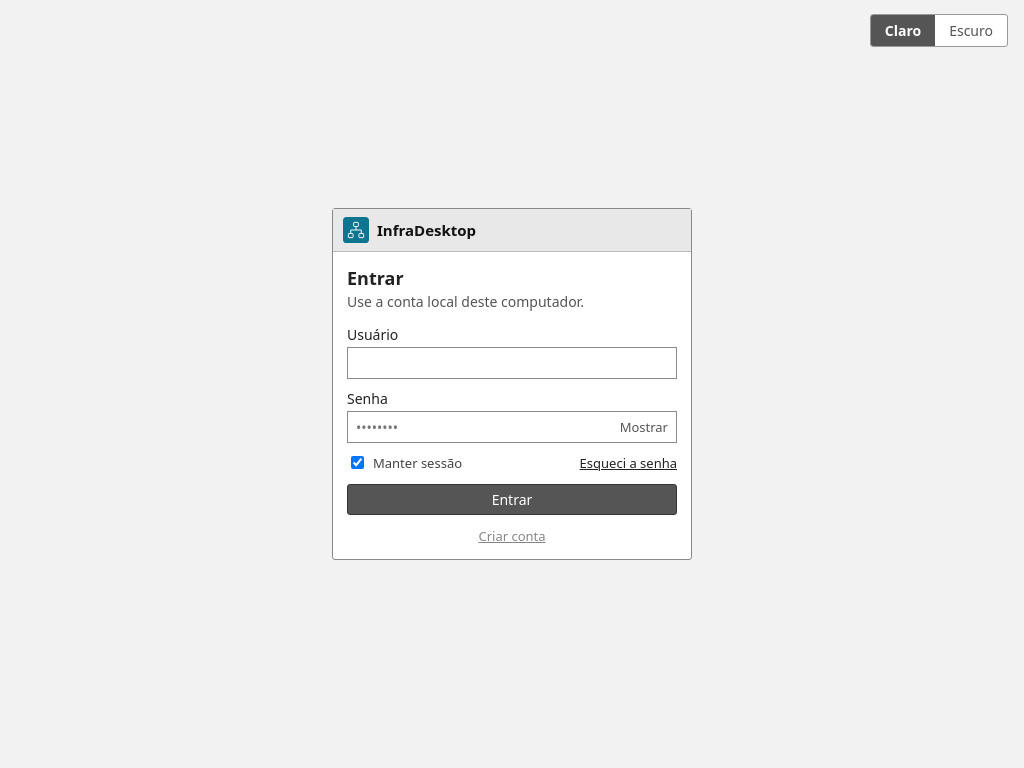
Test case: opens companies after explicit login with a remembered company
The width and height of the screenshot is (1024, 768).
Type "user" into the field labelled "Usuário" at (512, 363), box x1=347 y1=347 x2=677 y2=379
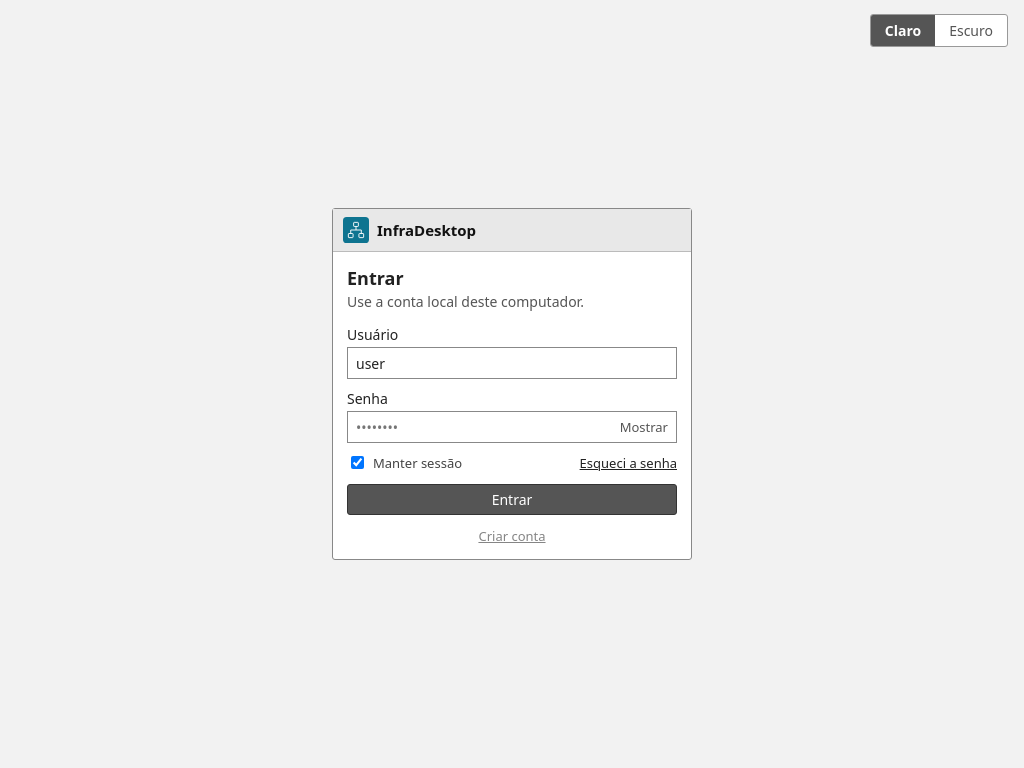
Type "password" into the password field labelled "Senha" at (512, 427), box x1=347 y1=411 x2=677 y2=443
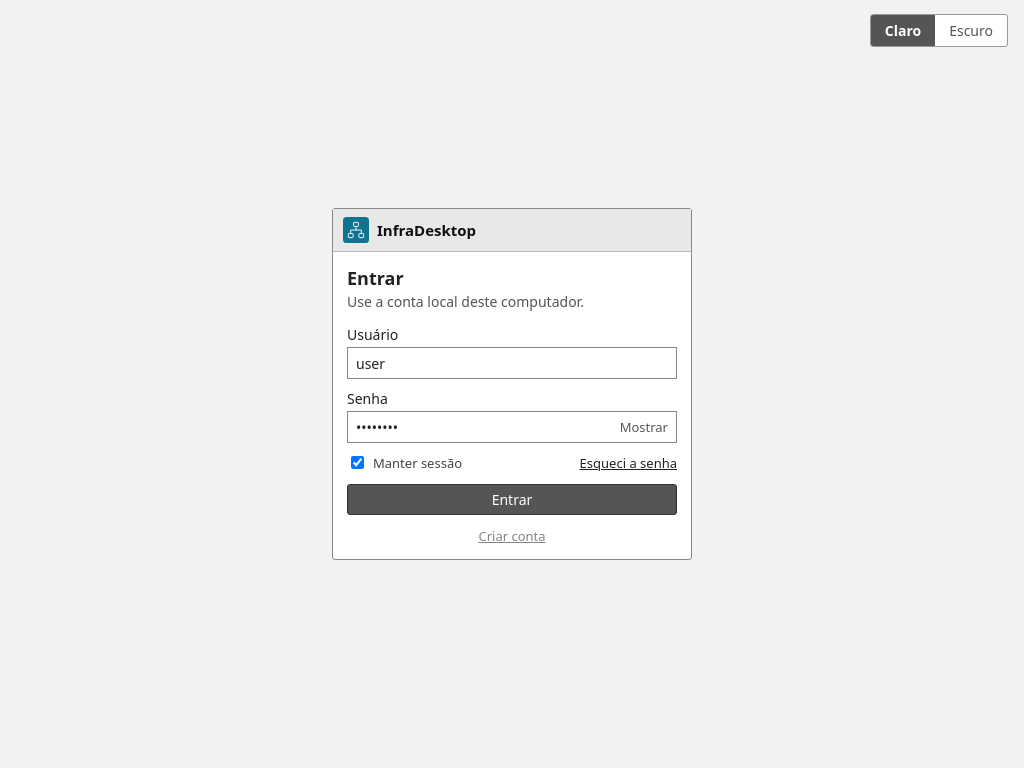
Click the button "Entrar" at (512, 500), box x1=347 y1=484 x2=677 y2=515
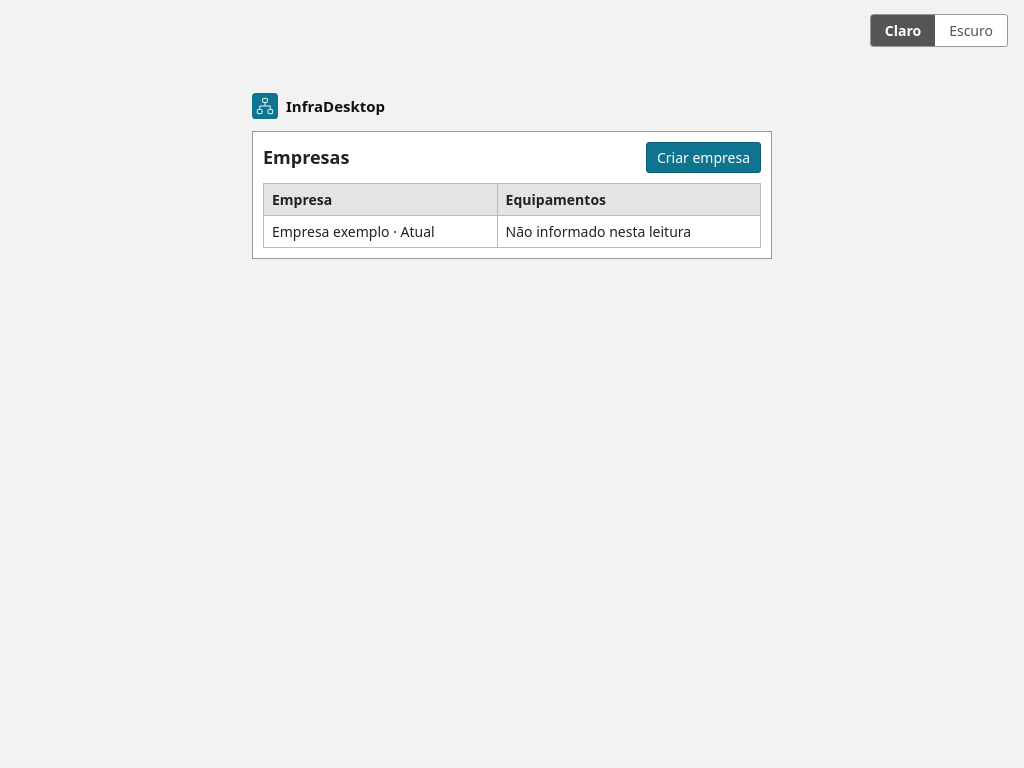
Expected: the heading "Empresas" is shown, x1=263 y1=145 x2=349 y2=169
Expected: the text "· Atual" is shown, x1=390 y1=222 x2=435 y2=241
